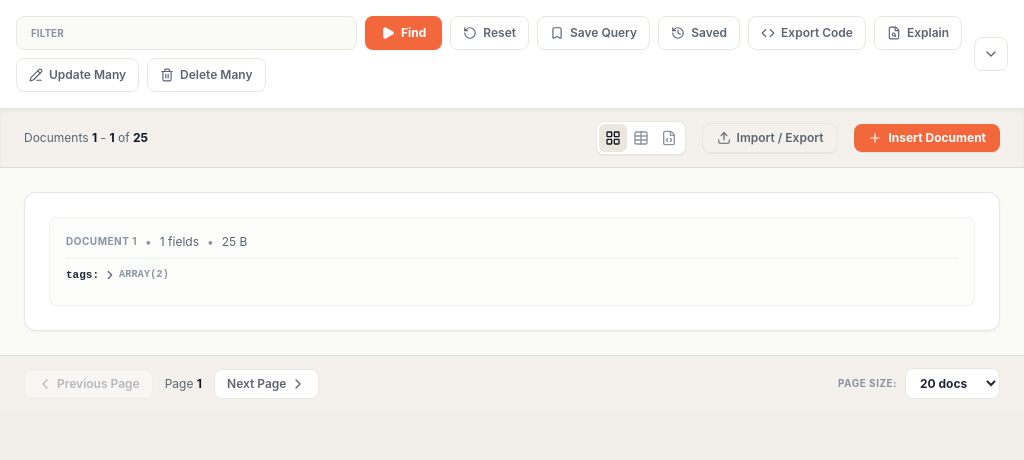
Test: DocumentExplorer – Tree view rendering › renders nested array with expand/collapse toggle
The width and height of the screenshot is (1024, 460).
Check: the text "Array(2)" is shown, box [119,267,169,283]
Click the button "Array(2)" at (136, 275), box [103,267,169,283]
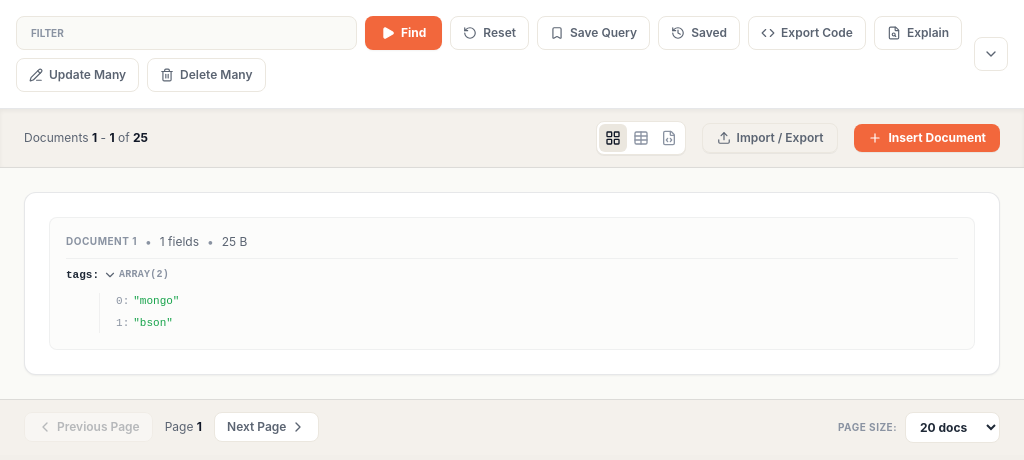
Check: the text "\"mongo\"" is shown, box [133,293,179,311]
Check: the text "\"bson\"" is shown, box [133,315,173,333]
// Collapse again
Click the button "Array(2)" at (136, 275), box [103,267,169,283]
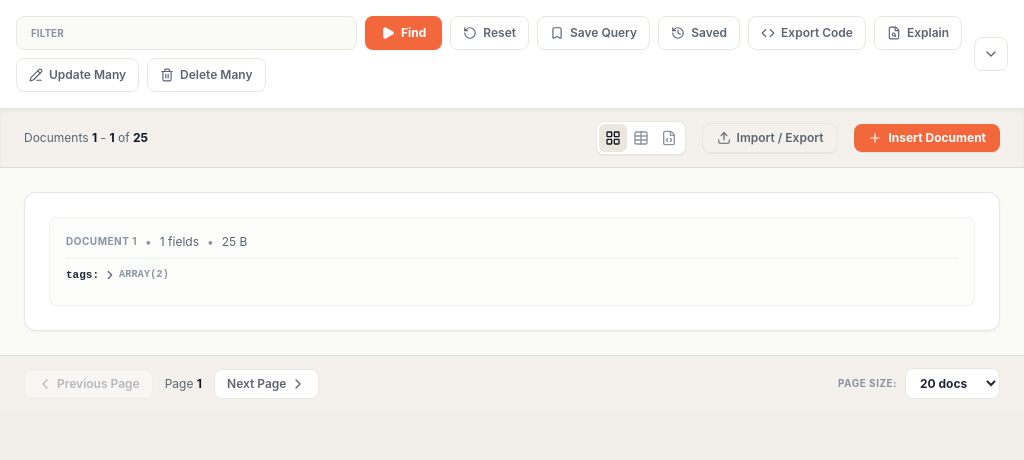
Check: the text "\"mongo\"" is gone
